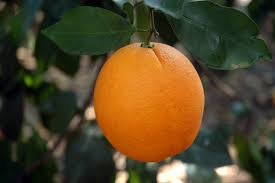orange: (91, 36, 207, 159)
